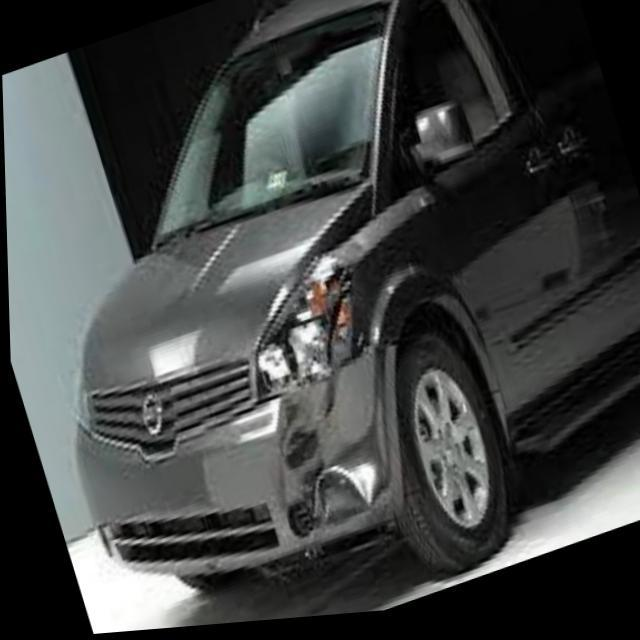dent: (273, 372, 364, 531)
